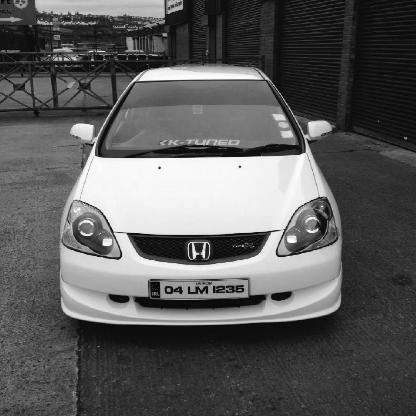license plate: (146, 278, 250, 298)
